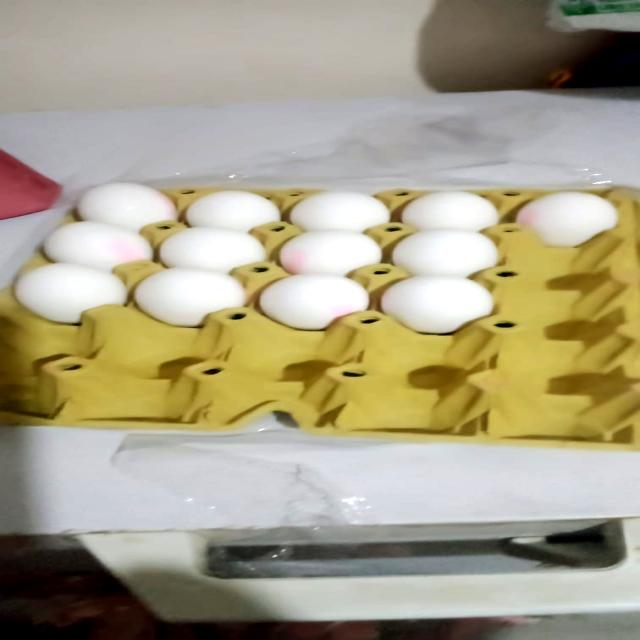egg: (374, 261, 506, 337), (127, 261, 260, 333), (246, 268, 376, 334), (512, 184, 622, 253)
